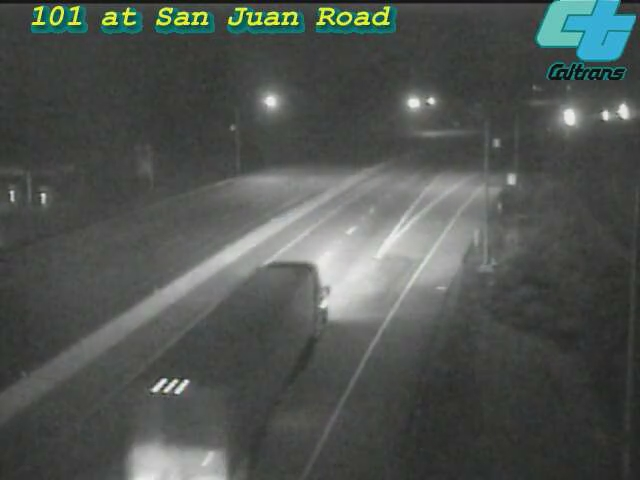vehicle: (184, 291, 294, 401), (584, 90, 634, 140), (541, 92, 591, 142), (597, 86, 640, 136)
